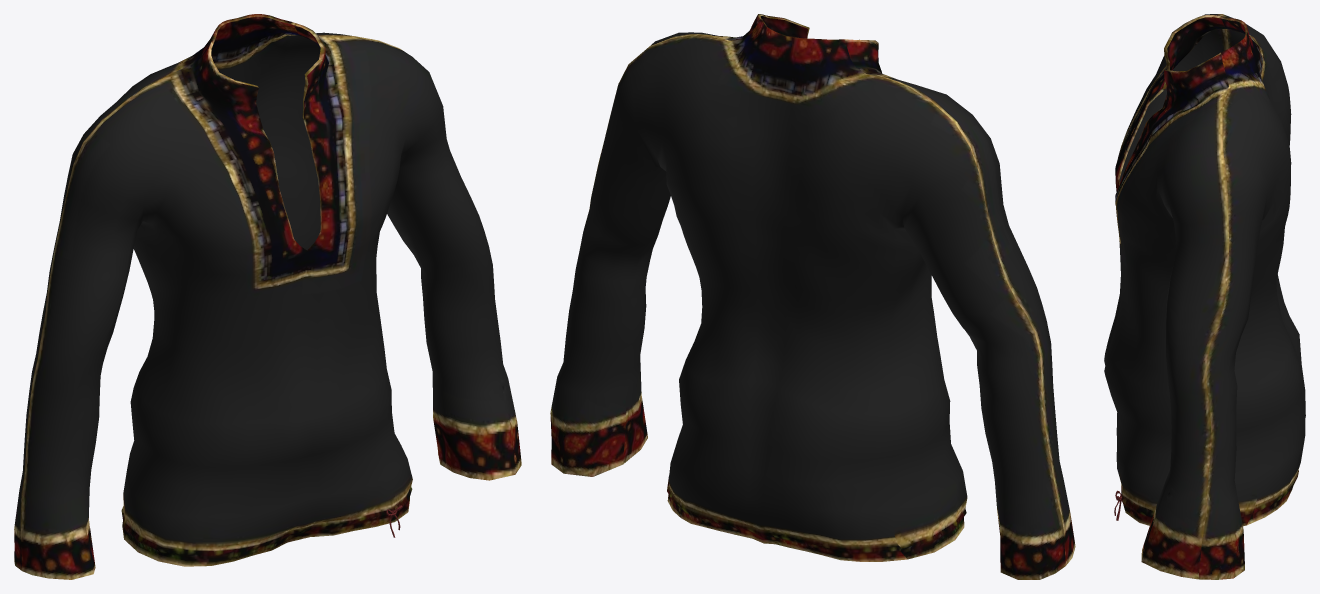
Rendered from elvs-male-boho-top1.glb.
3 renders of one model, left to right at view 1: azimuth 30°, elevation 25°; view 2: azimuth 150°, elevation 25°; view 3: azimuth 270°, elevation 25°, orthographic. The views are drawn at different scales.
Visible parts, largest first — view 1: Human.elvs_male_boho_top1; view 2: Human.elvs_male_boho_top1; view 3: Human.elvs_male_boho_top1.
Boxes of the visible parts, bbox=[...] form: Human.elvs_male_boho_top1: bbox=[14, 14, 521, 579]; Human.elvs_male_boho_top1: bbox=[550, 14, 1075, 579]; Human.elvs_male_boho_top1: bbox=[1104, 14, 1305, 579].
Bounding box in the file's own units: 0.7594 × 0.7257 × 0.2939.
Materials: 1 (1 with a texture image).
